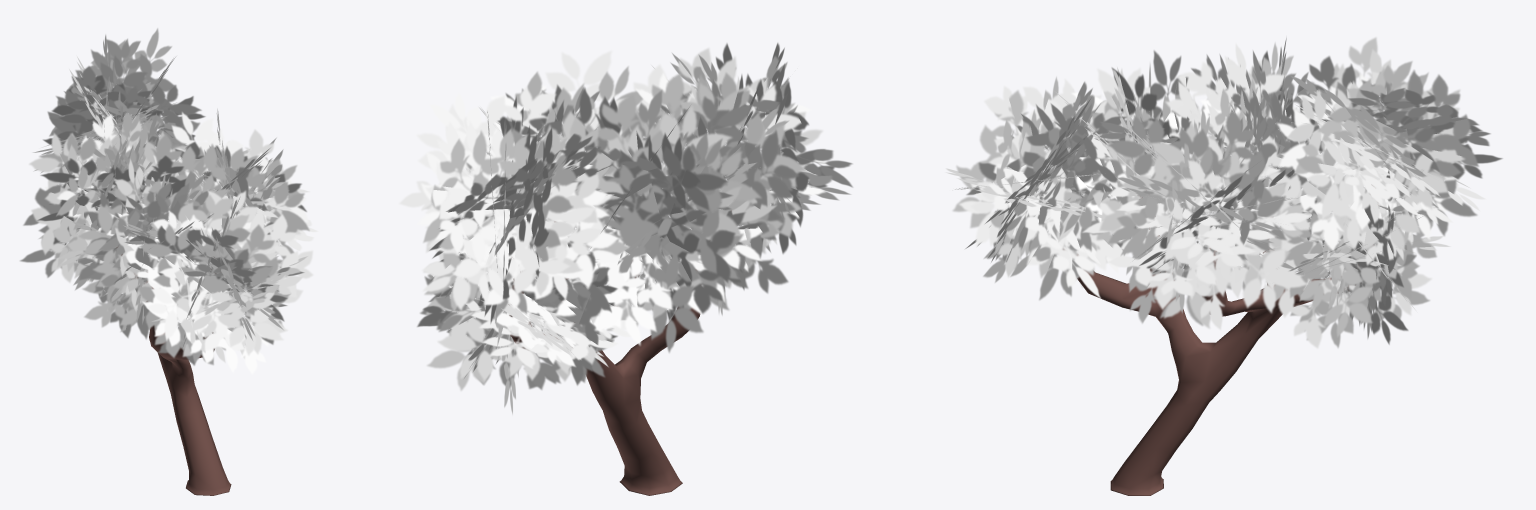
The model's file is tree_stylized_9.glb.
3 views of the same model, side by side, from view 1: azimuth 30°, elevation 25°; view 2: azimuth 150°, elevation 25°; view 3: azimuth 270°, elevation 25° (orthographic). The views are drawn at different scales.
Visible parts, largest first — view 1: Canopy, Willow_Dead_4; view 2: Canopy, Willow_Dead_4; view 3: Canopy, Willow_Dead_4.
Part boxes in pixels (left/top/right/bottom): Canopy: left=20, top=28, right=318, bottom=374; Willow_Dead_4: left=116, top=246, right=231, bottom=495; Canopy: left=399, top=43, right=852, bottom=414; Willow_Dead_4: left=508, top=210, right=731, bottom=495; Canopy: left=945, top=37, right=1502, bottom=348; Willow_Dead_4: left=1063, top=197, right=1358, bottom=495.
Size of the model in its own units: 2.93 by 3.92 by 4.68.
Materials: 2 (1 with a texture image).
